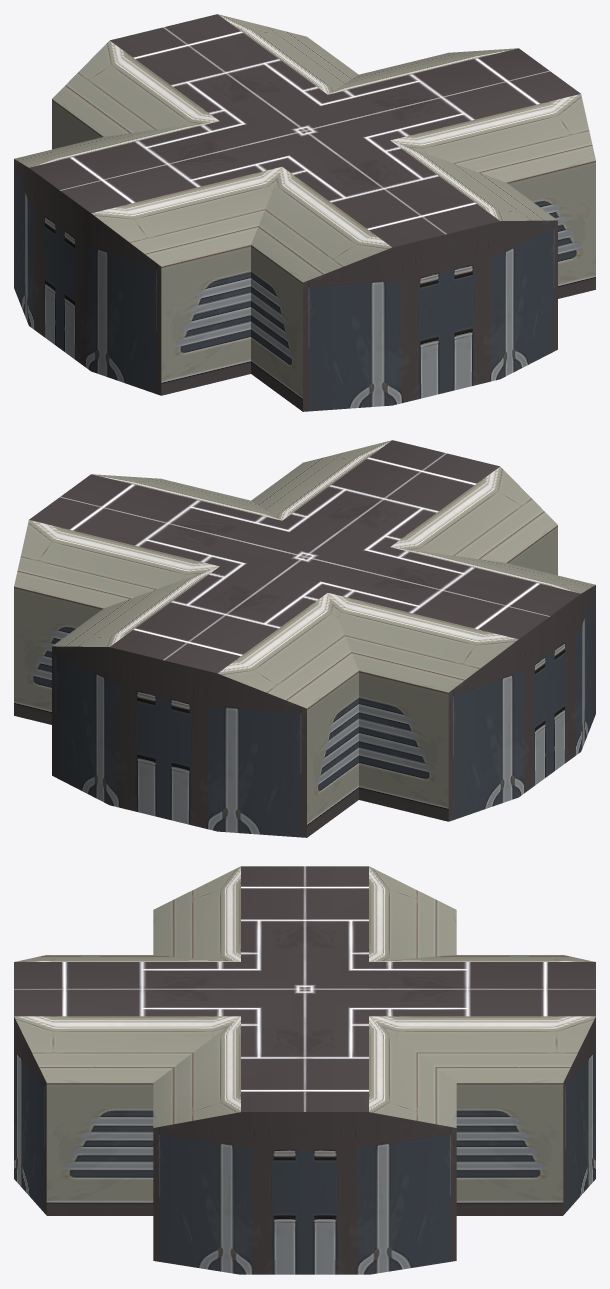
Rendered from KF_SM_XBuilding006.fbx.
3 views of the same model, one above another, from view 1: azimuth 30°, elevation 25°; view 2: azimuth 150°, elevation 25°; view 3: azimuth 270°, elevation 25° (orthographic). The views are drawn at different scales.
Parts seen in each view (by area): view 1: KF_SM_XBuilding006; view 2: KF_SM_XBuilding006; view 3: KF_SM_XBuilding006.
Boxes of the visible parts, box(x1,y1,x2,y2) form: KF_SM_XBuilding006: box(14, 14, 595, 411); KF_SM_XBuilding006: box(14, 440, 595, 837); KF_SM_XBuilding006: box(14, 866, 595, 1274).
Bounding box in the file's own units: 4774 × 1472 × 4774.
